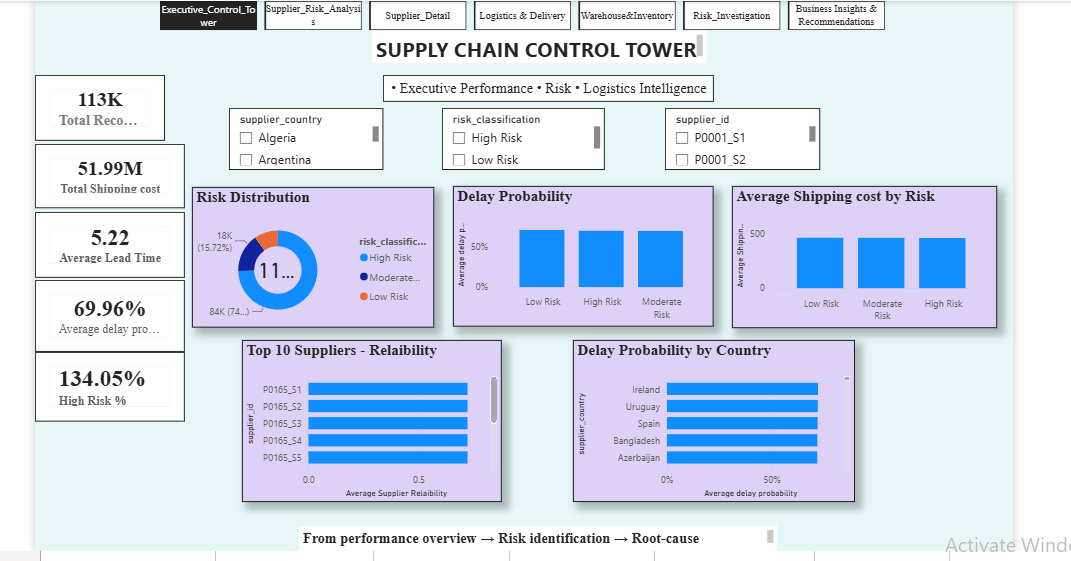

The page's visual inventory and layout, read from the dashboard file:
{"tool":"powerbi","page":{"name":"Executive_Control_Tower","canvas":[1280,720],"ordinal":0},"visuals":[{"type":"cardVisual","fields":{"Data":["Dim_Country.Total Records"]},"box":[0,96.5,169.9,86.4],"z":0},{"type":"cardVisual","fields":{"Data":["Dim_Country.Total Shipping cost"]},"box":[0,187.2,195.8,83.5],"z":1000},{"type":"cardVisual","fields":{"Data":["Dim_Country.Average Lead Time"]},"box":[0,276.5,195.8,86.4],"z":2000},{"type":"cardVisual","fields":{"Data":["Dim_Country.Average delay probability"]},"box":[0,365.8,195.8,93.6],"z":3000},{"type":"cardVisual","fields":{"Data":["Dim_Country.High Risk %"]},"box":[0,459.4,195.8,90.7],"z":4000},{"type":"slicer","fields":{"Values":["Fact_SupplyChain.supplier_country"]},"box":[253.4,139.7,201.6,80.6],"z":5000},{"type":"slicer","fields":{"Values":["Fact_SupplyChain.risk_classification"]},"box":[532.8,139.7,213.1,80.6],"z":6000},{"type":"slicer","fields":{"Values":["Fact_SupplyChain.supplier_id"]},"box":[825.1,139.7,203,80.6],"z":7000},{"type":"donutChart","title":"Risk Distribution","fields":{"Category":["Fact_SupplyChain.risk_classification"],"Y":["Dim_Country.Total Records"]},"box":[205.9,243.4,316.8,184.3],"z":8000},{"type":"clusteredColumnChart","title":"Delay Probability","fields":{"Category":["Fact_SupplyChain.risk_classification"],"Y":["Dim_Country.Average delay probability"]},"box":[547.2,241.9,341.3,184.3],"z":9000},{"type":"clusteredBarChart","title":"Top 10 Suppliers - Relaibility","fields":{"Y":["Dim_Country.Average Supplier Relaibility"],"Category":["Fact_SupplyChain.supplier_id"]},"box":[270.7,443.5,339.8,211.7],"z":10000},{"type":"clusteredBarChart","title":"Delay Probability by Country","fields":{"Y":["Dim_Country.Average delay probability"],"Category":["Fact_SupplyChain.supplier_country"]},"box":[704.2,443.5,368.6,211.7],"z":11000},{"type":"clusteredColumnChart","title":"Average Shipping cost by Risk","fields":{"Category":["Fact_SupplyChain.risk_classification"],"Y":["Dim_Country.Average Shipping cost"]},"box":[913,241.9,347,185.8],"z":12000},{"type":"textbox","box":[440.6,38.9,437.8,41.8],"z":13000},{"type":"textbox","box":[455,96.5,433.4,34.6],"z":14000},{"type":"pageNavigator","box":[164.2,0,950.4,38.9],"z":16000},{"type":"textbox","box":[345.6,686.9,626.4,33.1],"z":17000}]}

Visuals, with their boxes in screenshot pixels (x1, y1, x2, y2):
cardVisual - Dim_Country.Total Records: 31, 71, 161, 138
cardVisual - Dim_Country.Total Shipping cost: 31, 141, 181, 205
cardVisual - Dim_Country.Average Lead Time: 31, 210, 181, 276
cardVisual - Dim_Country.Average delay probability: 31, 278, 181, 350
cardVisual - Dim_Country.High Risk %: 31, 350, 181, 420
slicer - Fact_SupplyChain.supplier_country: 225, 104, 380, 166
slicer - Fact_SupplyChain.risk_classification: 440, 104, 603, 166
slicer - Fact_SupplyChain.supplier_id: 664, 104, 820, 166
"Risk Distribution" donutChart: 189, 184, 432, 326
"Delay Probability" clusteredColumnChart: 451, 183, 713, 324
"Top 10 Suppliers - Relaibility" clusteredBarChart: 239, 338, 499, 500
"Delay Probability by Country" clusteredBarChart: 571, 338, 854, 500
"Average Shipping cost by Risk" clusteredColumnChart: 732, 183, 998, 326
textbox: 369, 27, 705, 59
textbox: 380, 71, 713, 98
pageNavigator: 157, 0, 887, 27
textbox: 296, 525, 777, 550
